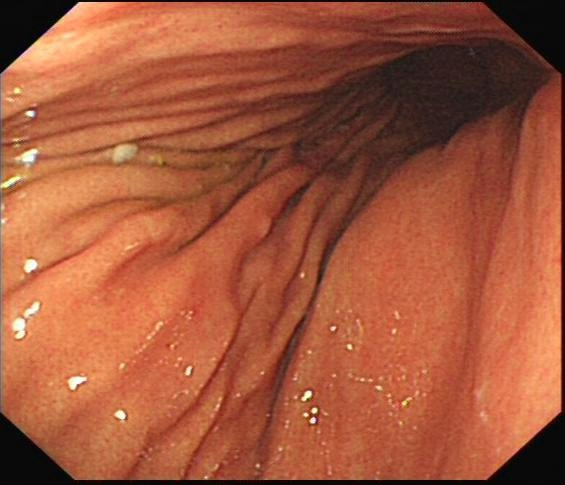Polyp: (236, 193, 293, 257)
